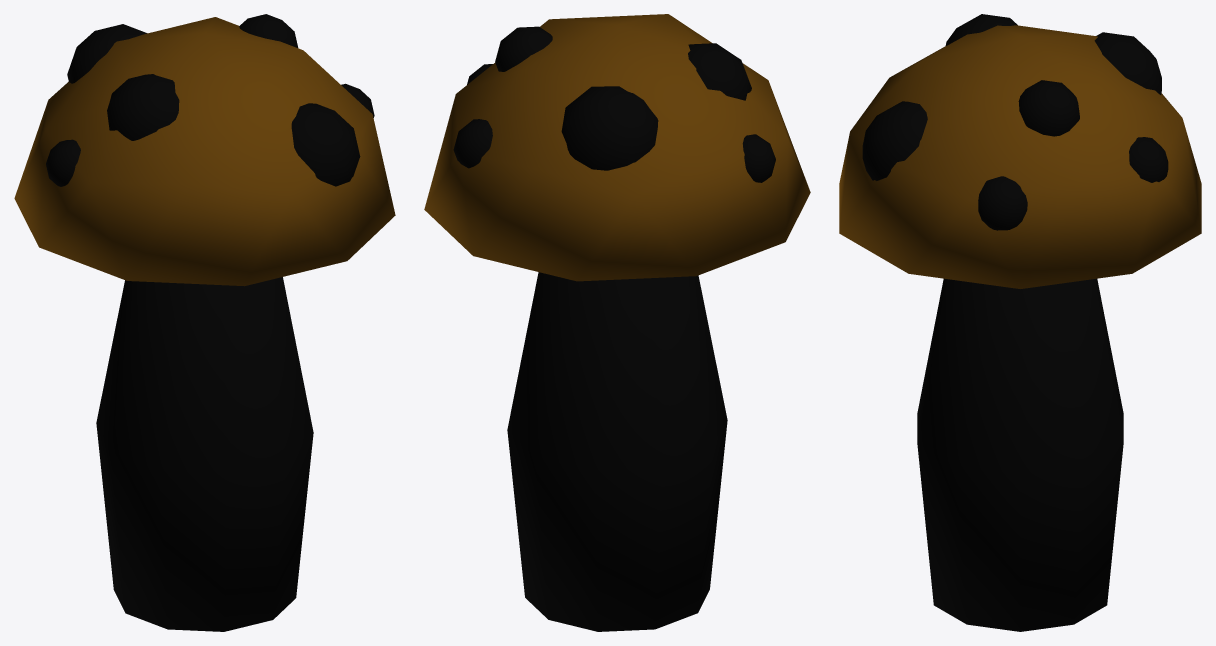
Rendered from Mushroom(2).fbx.
3 views of the same model, side by side, from view 1: azimuth 30°, elevation 25°; view 2: azimuth 150°, elevation 25°; view 3: azimuth 270°, elevation 25° (orthographic).
Visible parts, largest first — view 1: mushroom 2; view 2: mushroom 2; view 3: mushroom 2.
Boxes of the visible parts, box(x1,y1,x2,y2) form: mushroom 2: box(14, 14, 395, 631); mushroom 2: box(424, 14, 810, 631); mushroom 2: box(839, 14, 1201, 631).
Size of the model in its own units: 98.02 by 158 by 93.23.
